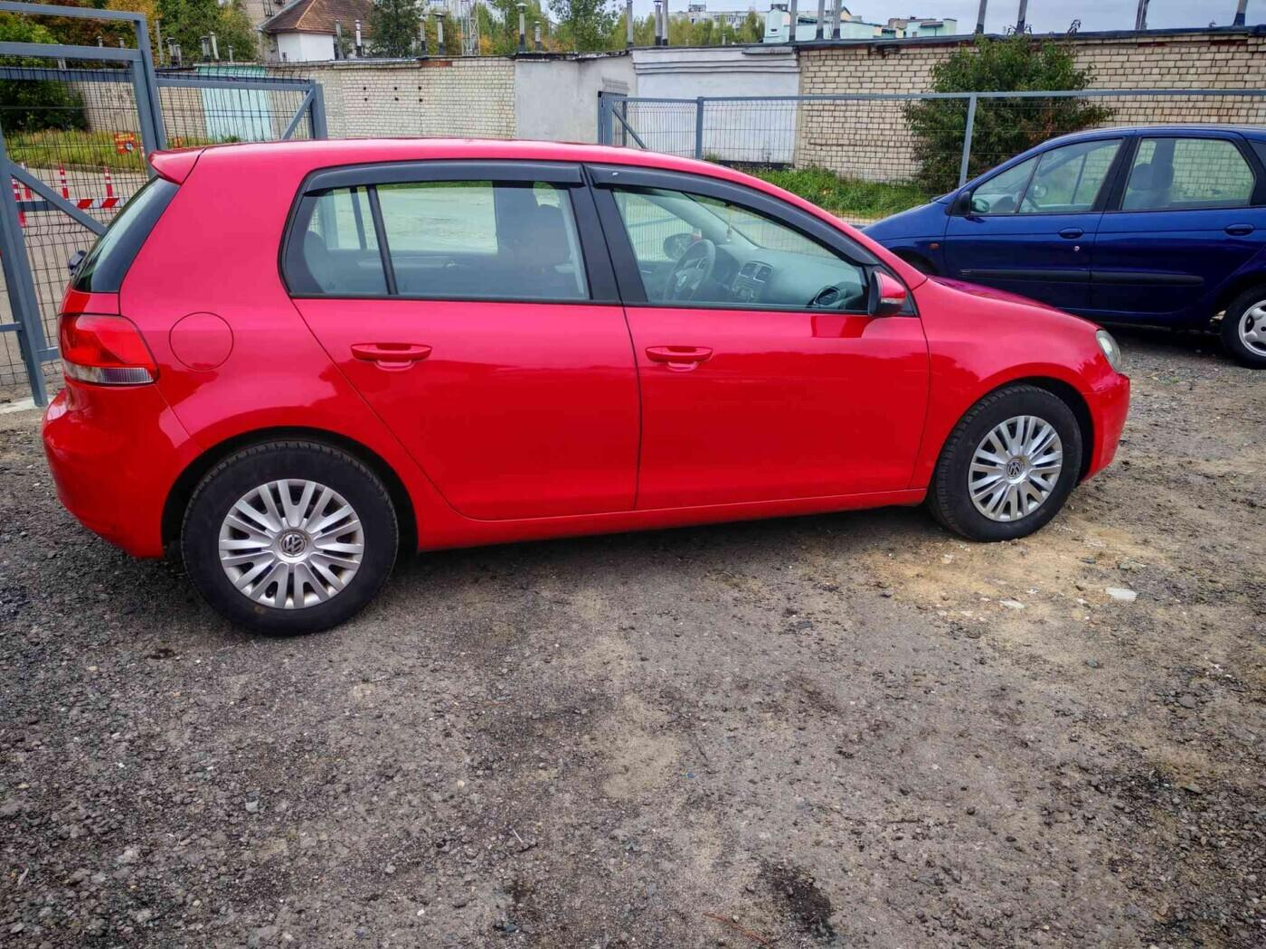Golf_2008-2013: (42, 125, 1138, 626)
